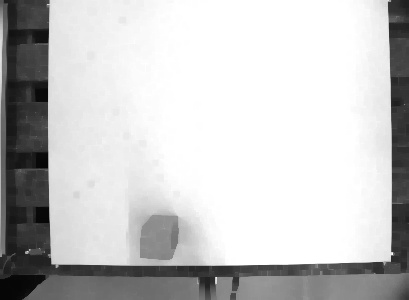b2: (138, 213, 180, 261)
